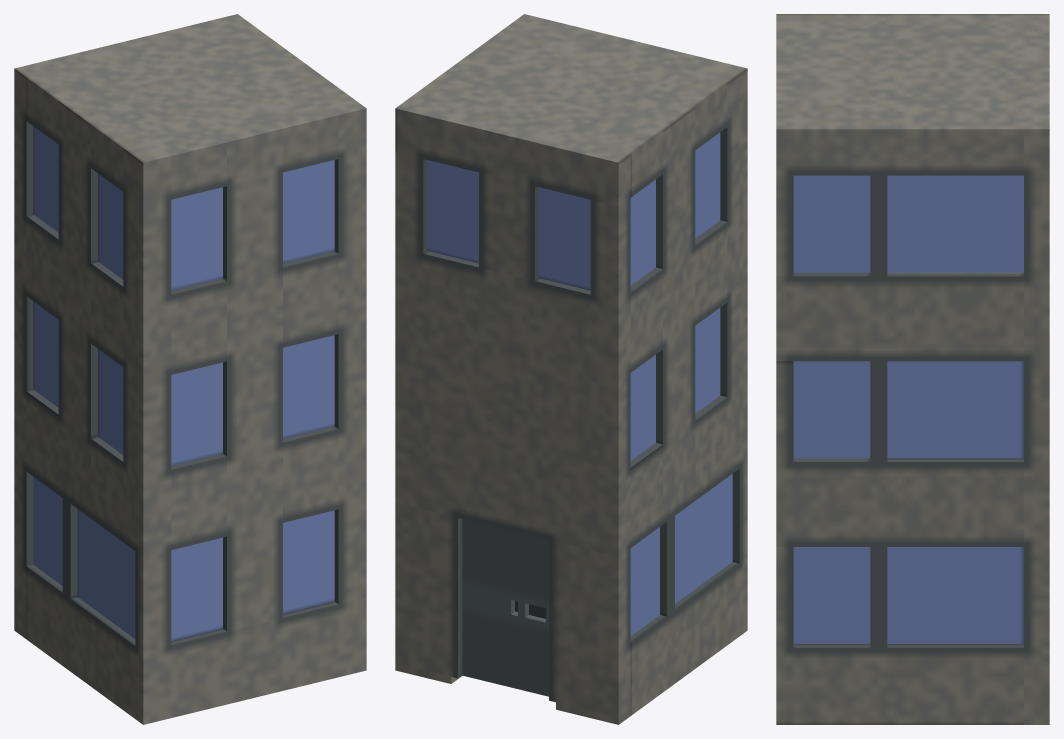
3 renders of one model, left to right at view 1: azimuth 30°, elevation 25°; view 2: azimuth 150°, elevation 25°; view 3: azimuth 270°, elevation 25°, orthographic. The views are drawn at different scales.
Parts seen in each view (by area): view 1: Content; view 2: Content; view 3: Content.
Part boxes in pixels (<box>): Content: <box>14,14,366,724</box>; Content: <box>395,14,747,724</box>; Content: <box>776,14,1049,724</box>.
Size of the model in its own units: 32 by 77 by 32.
1 material, 1 textured.
